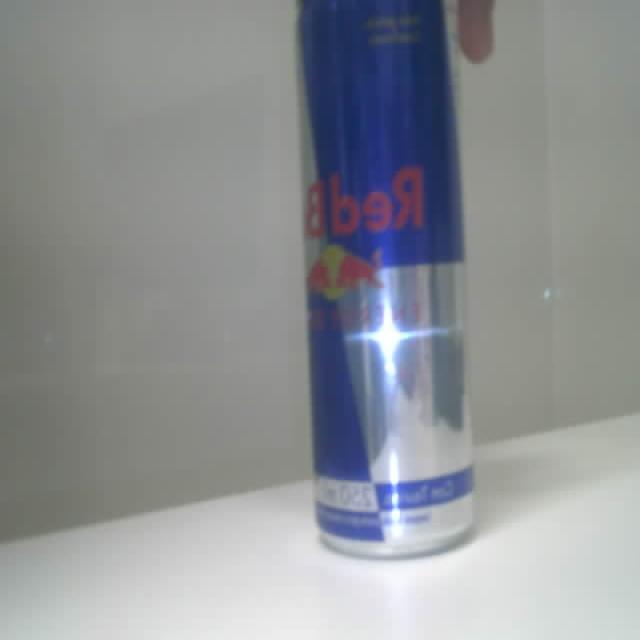redbull can: (299, 0, 472, 555)
